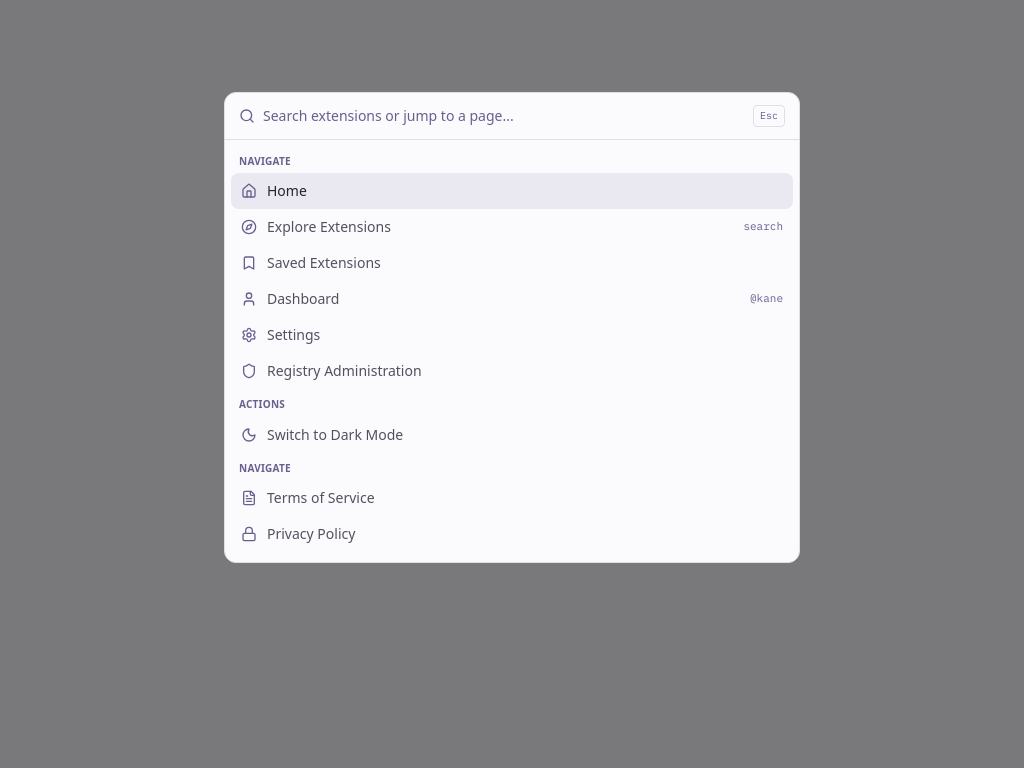
Test case: CommandPalette › filters commands as the user types
Type "saved" into the field named "Command palette search" at (504, 116), box [263, 106, 745, 126]
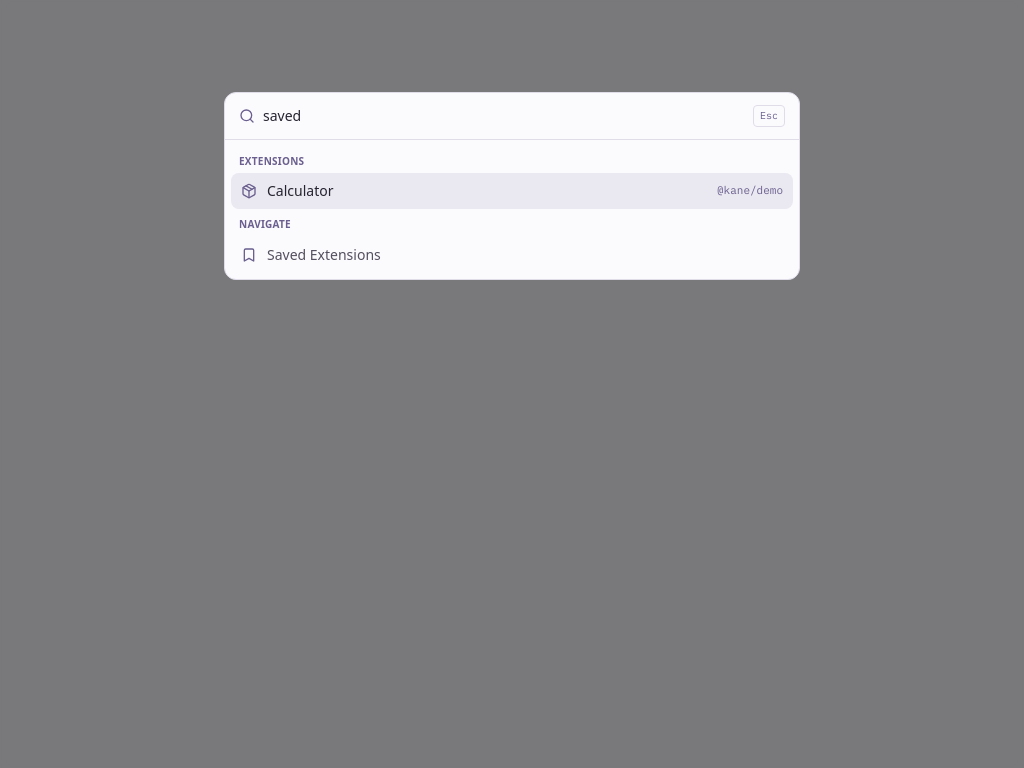
Expected: the option "Saved Extensions" is shown, [241, 245, 381, 264]
Expected: the option "Home" is gone
